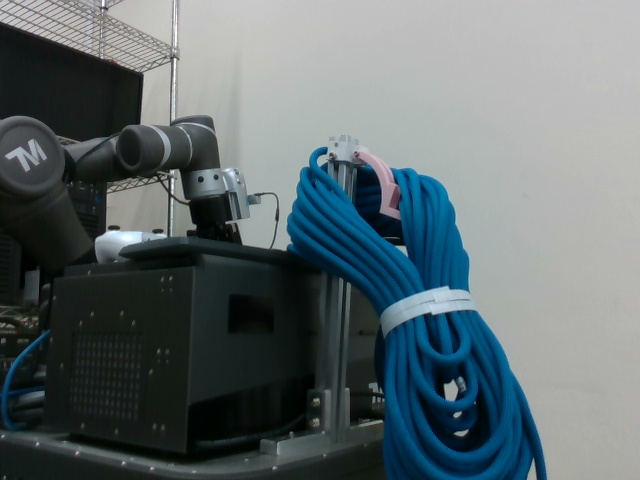rope: (285, 140, 551, 480)
